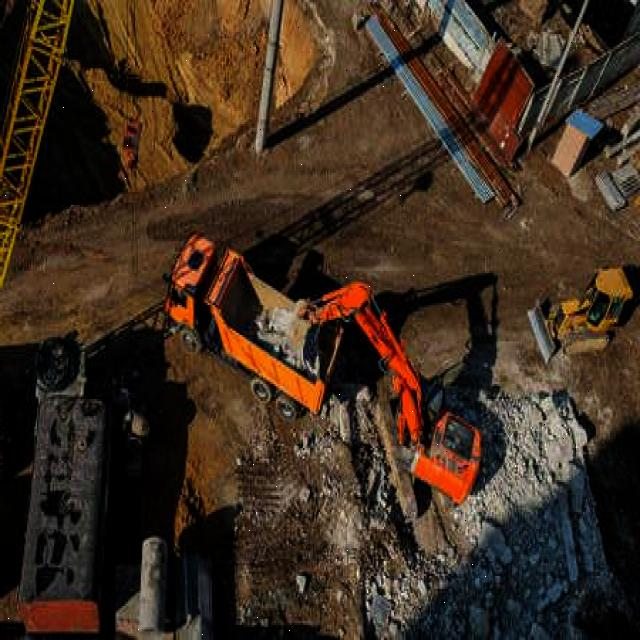Excavator: (289, 277, 492, 534)
